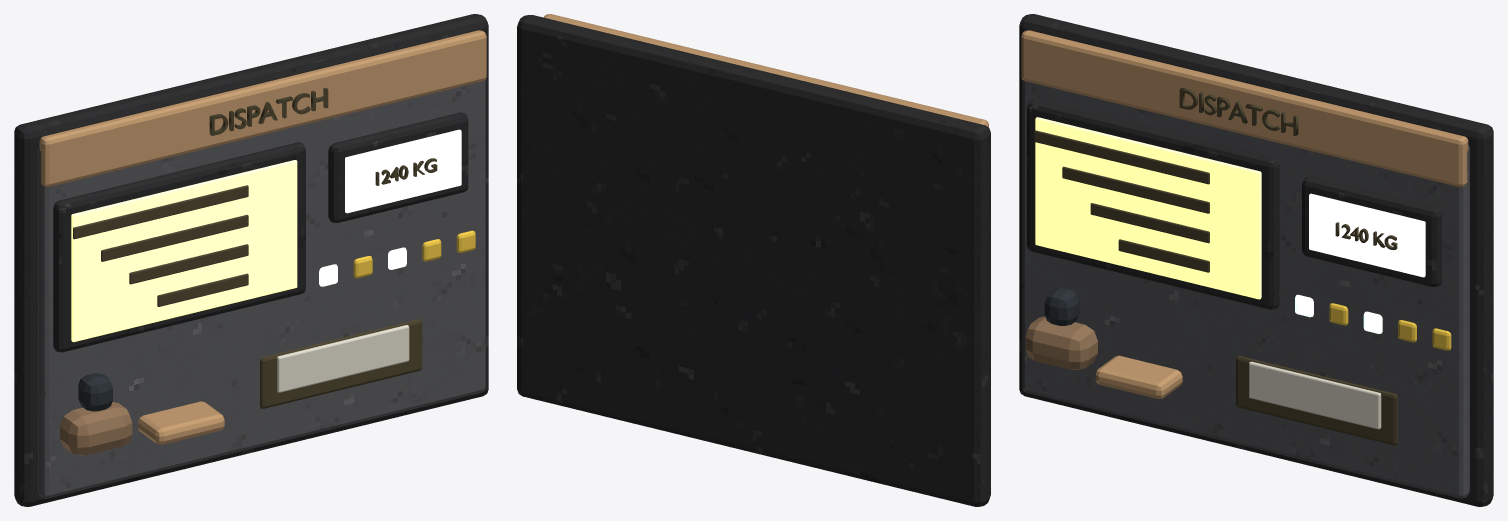
The model's file is decor_cargo_dispatch_panel.glb.
The picture shows the model from 3 angles, left to right: view 1: azimuth 30°, elevation 25°; view 2: azimuth 150°, elevation 25°; view 3: azimuth 330°, elevation 25°; orthographic projection.
Visible parts, largest first — view 1: DEC_CargoDispatchPanel__Panel_Face, DEC_CargoDispatchPanel__Route_Glow, DEC_CargoDispatchPanel__Panel_Header, DEC_CargoDispatchPanel__Panel_Back, DEC_CargoDispatchPanel__Route_Bezel, DEC_CargoDispatchPanel__Weight_Glow, DEC_CargoDispatchPanel__Docket, DEC_CargoDispatchPanel__Weight_Bezel, DEC_CargoDispatchPanel__Docket_Slot, DEC_CargoDispatchPanel__Stamp_Block, DEC_CargoDispatchPanel__Ink_Pad, DEC_CargoDispatchPanel__Route_Line_1 (+6 smaller); view 2: DEC_CargoDispatchPanel__Panel_Back, DEC_CargoDispatchPanel__Panel_Header; view 3: DEC_CargoDispatchPanel__Panel_Face, DEC_CargoDispatchPanel__Route_Glow, DEC_CargoDispatchPanel__Panel_Header, DEC_CargoDispatchPanel__Panel_Back, DEC_CargoDispatchPanel__Route_Bezel, DEC_CargoDispatchPanel__Weight_Glow, DEC_CargoDispatchPanel__Docket, DEC_CargoDispatchPanel__Weight_Bezel, DEC_CargoDispatchPanel__Docket_Slot, DEC_CargoDispatchPanel__Stamp_Block, DEC_CargoDispatchPanel__Ink_Pad, DEC_CargoDispatchPanel__Route_Line_1 (+6 smaller).
Boxes of the visible parts, x1,y1,x2,y2 form: DEC_CargoDispatchPanel__Panel_Face: (38,80,485,498); DEC_CargoDispatchPanel__Route_Glow: (71,160,297,342); DEC_CargoDispatchPanel__Panel_Header: (39,30,486,186); DEC_CargoDispatchPanel__Panel_Back: (14,14,488,506); DEC_CargoDispatchPanel__Route_Bezel: (53,142,305,352); DEC_CargoDispatchPanel__Weight_Glow: (345,129,461,213); DEC_CargoDispatchPanel__Docket: (277,325,409,392); DEC_CargoDispatchPanel__Weight_Bezel: (328,112,468,222); DEC_CargoDispatchPanel__Docket_Slot: (260,319,422,408); DEC_CargoDispatchPanel__Stamp_Block: (60,402,132,455); DEC_CargoDispatchPanel__Ink_Pad: (137,401,224,444); DEC_CargoDispatchPanel__Route_Line_1: (73,185,248,239); DEC_CargoDispatchPanel__Panel_Back: (517,15,990,506); DEC_CargoDispatchPanel__Panel_Header: (543,14,988,127); DEC_CargoDispatchPanel__Panel_Face: (1022,80,1469,498); DEC_CargoDispatchPanel__Route_Glow: (1035,117,1261,299); DEC_CargoDispatchPanel__Panel_Header: (1021,30,1468,186); DEC_CargoDispatchPanel__Panel_Back: (1019,14,1493,506); DEC_CargoDispatchPanel__Route_Bezel: (1027,99,1279,309); DEC_CargoDispatchPanel__Weight_Glow: (1309,193,1425,277); DEC_CargoDispatchPanel__Docket: (1249,361,1381,429); DEC_CargoDispatchPanel__Weight_Bezel: (1302,176,1441,286); DEC_CargoDispatchPanel__Docket_Slot: (1236,355,1397,445); DEC_CargoDispatchPanel__Stamp_Block: (1025,316,1097,369); DEC_CargoDispatchPanel__Ink_Pad: (1095,355,1182,398); DEC_CargoDispatchPanel__Route_Line_1: (1034,130,1209,184).
Bounding box in the file's own units: 1.5 × 1.16 × 0.23.
11 materials, 2 textured.
